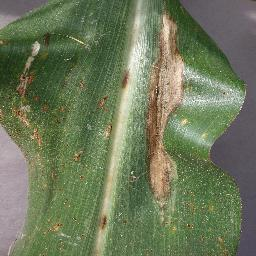Corn_Blight: (149, 10, 183, 111), (142, 111, 175, 208), (190, 153, 238, 180), (10, 78, 30, 138), (32, 117, 52, 171), (53, 131, 67, 207), (28, 33, 49, 77), (0, 67, 10, 135), (209, 234, 237, 256), (185, 200, 224, 213), (53, 99, 71, 127), (38, 220, 63, 240), (118, 64, 132, 89), (101, 119, 115, 140), (98, 214, 113, 231), (99, 93, 112, 111), (178, 115, 192, 129), (73, 148, 86, 163), (31, 84, 39, 108), (176, 222, 197, 231), (76, 78, 89, 91), (1, 36, 11, 52), (42, 99, 50, 116), (119, 219, 132, 228), (74, 173, 85, 180), (37, 251, 50, 256)
